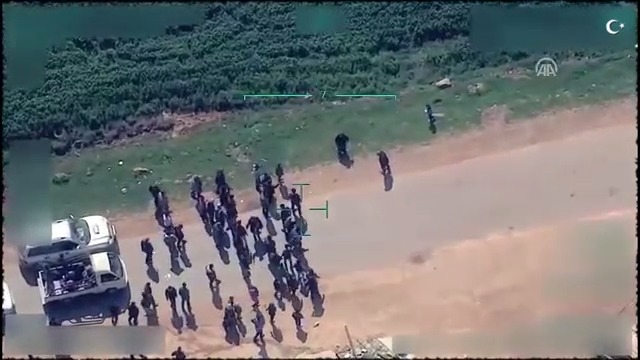arac: (11, 208, 122, 270), (34, 248, 126, 307)
insan: (375, 146, 397, 184), (334, 126, 355, 164), (163, 279, 185, 315), (179, 276, 199, 314), (204, 258, 222, 296), (140, 231, 157, 269), (421, 99, 439, 134), (246, 213, 266, 241), (266, 300, 282, 329), (279, 242, 296, 269), (274, 160, 287, 180)
